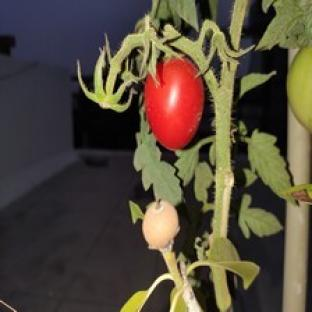Tomato: (144, 59, 204, 150), (287, 48, 311, 132), (143, 201, 179, 249)
